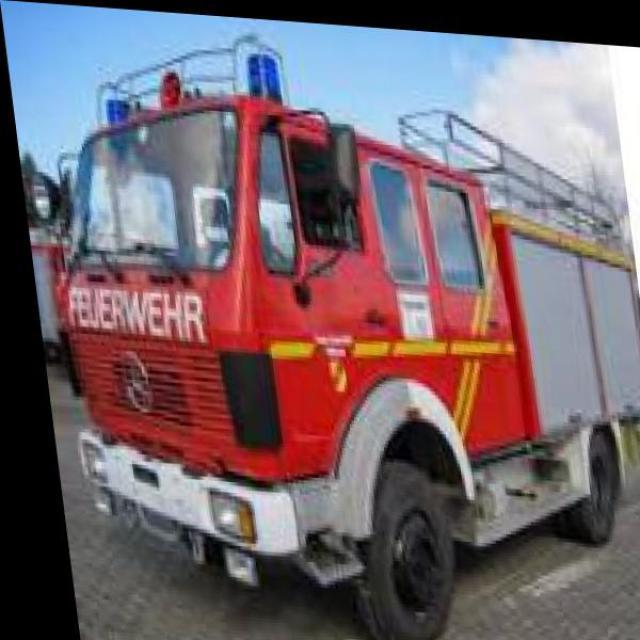emergency: (46, 33, 638, 637)
